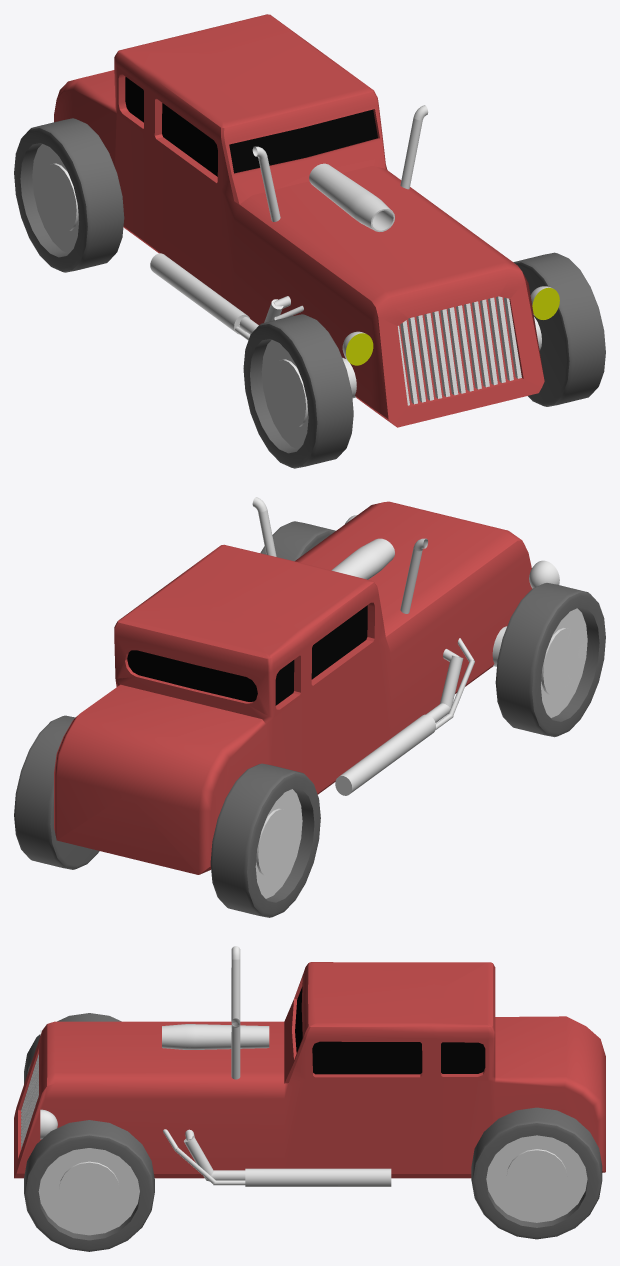
The model's file is Car2.fbx.
The picture shows the model from 3 angles, top to bottom: view 1: azimuth 30°, elevation 25°; view 2: azimuth 150°, elevation 25°; view 3: azimuth 270°, elevation 25°; orthographic projection. The views are drawn at different scales.
Visible parts, largest first — view 1: pCube2, pCylinder7, pCylinder16, pCylinder10, pCylinder14, pCylinder12, pSphere2, pCube6, pCube7, pCube8, pCube10, pCube9 (+3 smaller); view 2: pCube2, pCylinder16, pCylinder7, pCylinder14, pCylinder10, pCylinder12, pSphere2, pCylinder18; view 3: pCube2, pCylinder7, pCylinder16, pCylinder14, pCylinder10, pCylinder12, pCylinder18.
Part boxes in pixels (x1,y1,x2,y2): pCube2: (54,14,544,427); pCylinder7: (243,252,605,468); pCylinder16: (14,118,124,272); pCylinder10: (309,163,394,231); pCylinder14: (150,253,249,334); pCylinder12: (252,105,428,221); pSphere2: (342,286,559,365); pCube6: (408,297,505,402); pCube7: (416,299,497,400); pCube8: (424,301,489,398); pCube10: (440,305,473,395); pCube9: (432,303,481,396); pCube2: (54,501,532,874); pCylinder16: (14,715,320,917); pCylinder7: (260,521,605,737); pCylinder14: (335,714,435,795); pCylinder10: (331,538,394,579); pCylinder12: (252,497,427,613); pSphere2: (345,515,559,588); pCylinder18: (440,655,463,707); pCube2: (14,962,605,1178); pCylinder7: (24,1013,154,1251); pCylinder16: (471,1107,602,1239); pCylinder14: (245,1168,391,1186); pCylinder10: (162,1024,269,1049); pCylinder12: (231,946,240,1079); pCylinder18: (184,1136,213,1180).
Bounding box in the file's own units: 198 × 157 × 402.
